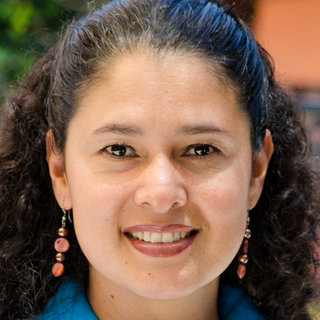eye: (95, 138, 143, 164), (176, 139, 225, 164)
